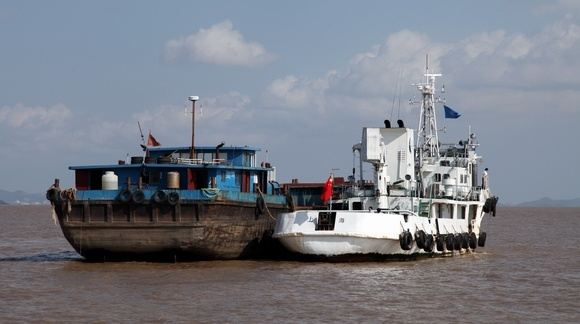otherboat: (42, 98, 347, 260), (263, 76, 496, 256)
